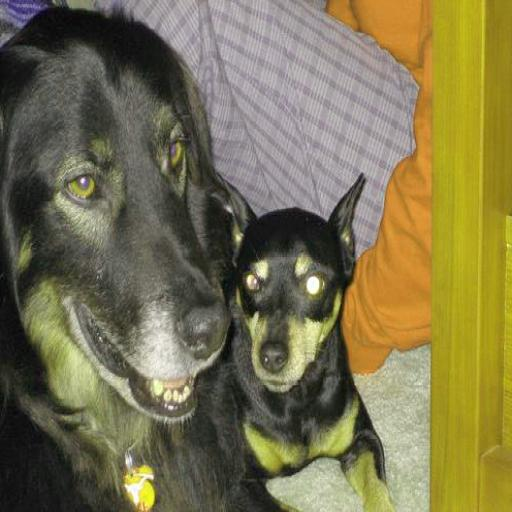dog_face: (0, 14, 227, 424), (230, 184, 364, 383)
